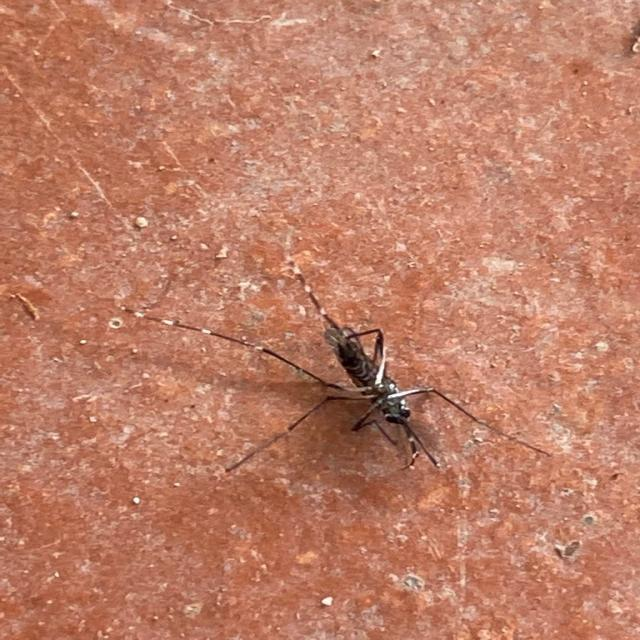albopictus: (108, 230, 562, 488)
